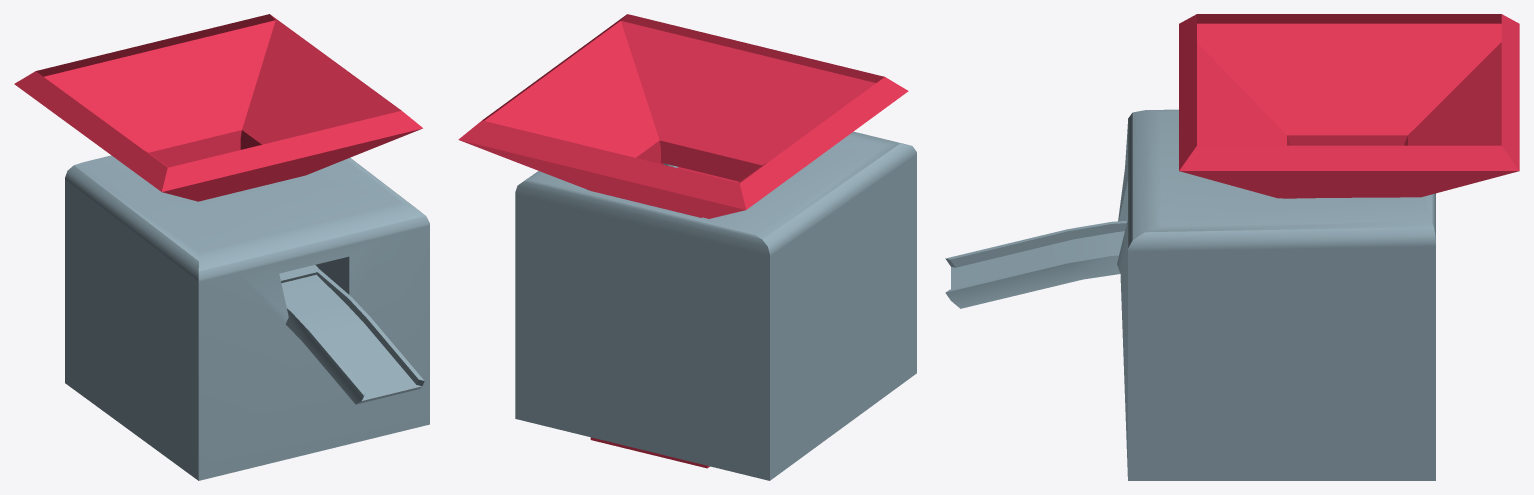
Rendered from cans-machine.glb.
3 renders of one model, left to right at view 1: azimuth 30°, elevation 25°; view 2: azimuth 150°, elevation 25°; view 3: azimuth 270°, elevation 25°, orthographic. The views are drawn at different scales.
Visible parts, largest first — view 1: machine-body, machine-hopper; view 2: machine-body, machine-hopper; view 3: machine-body, machine-hopper.
Boxes of the visible parts, x1,y1,x2,y2 form: machine-body: (65,155,429,480); machine-hopper: (14,14,422,201); machine-body: (515,131,916,480); machine-hopper: (458,14,908,468); machine-body: (945,109,1435,480); machine-hopper: (1179,14,1519,198).
Size of the model in its own units: 22.87 by 25.24 by 37.7.
